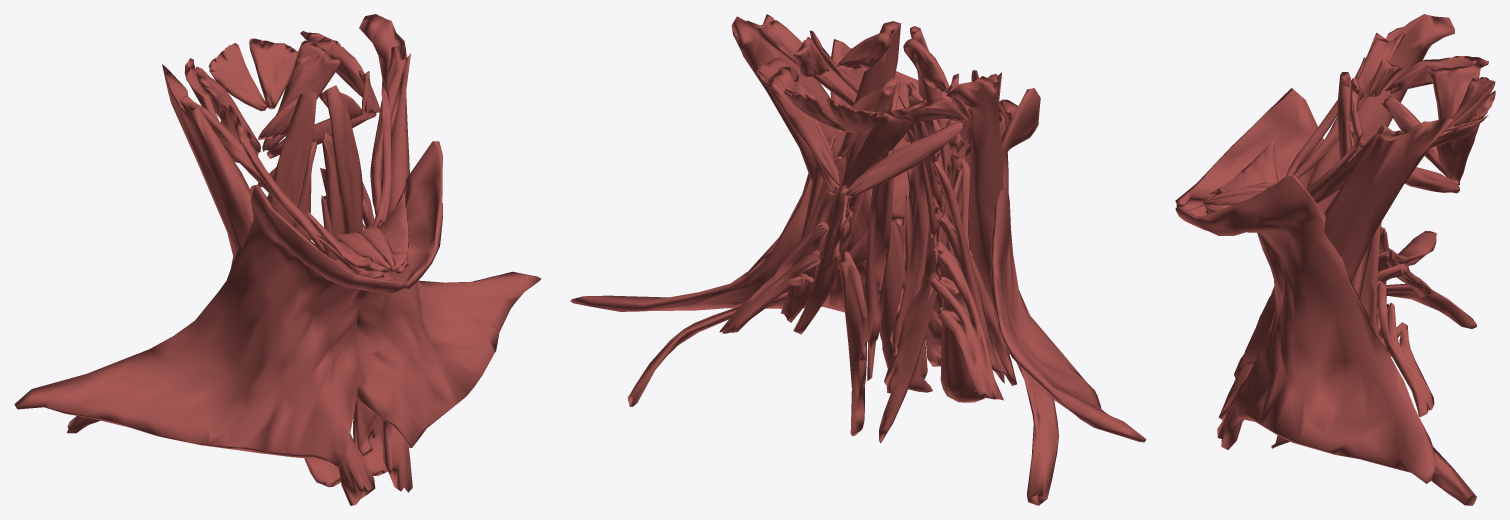
File: neck.glb
The picture shows the model from 3 angles, left to right: view 1: azimuth 30°, elevation 25°; view 2: azimuth 150°, elevation 25°; view 3: azimuth 270°, elevation 25°; orthographic projection. The views are drawn at different scales.
Visible parts, largest first — view 1: FMA45739, FMA45740, FMA13408, FMA13409, FMA46310, FMA46309, FMA32531, FMA32533, FMA32532, FMA46307, FMA45826, FMA46286 (+15 smaller); view 2: FMA45739, FMA45740, FMA13408, FMA13409, FMA46286, FMA13388, FMA46285, FMA13348, FMA46287, FMA46288, FMA13390, FMA13389 (+21 smaller); view 3: FMA45740, FMA13409, FMA45739, FMA13408, FMA13389, FMA46306, FMA32530, FMA13391, FMA32534, FMA46321, FMA32531, FMA13348 (+16 smaller).
Boxes of the visible parts, left/top/right/bottom form: FMA45739: left=14, top=184, right=405, bottom=466; FMA45740: left=356, top=141, right=541, bottom=447; FMA13408: left=162, top=64, right=375, bottom=505; FMA13409: left=359, top=14, right=412, bottom=492; FMA46310: left=325, top=85, right=363, bottom=233; FMA46309: left=267, top=92, right=316, bottom=225; FMA32531: left=262, top=40, right=340, bottom=151; FMA32533: left=249, top=38, right=298, bottom=109; FMA32532: left=208, top=43, right=267, bottom=111; FMA46307: left=370, top=46, right=406, bottom=227; FMA45826: left=233, top=114, right=330, bottom=254; FMA46286: left=320, top=138, right=344, bottom=260; FMA45739: left=950, top=88, right=1146, bottom=442; FMA45740: left=570, top=39, right=964, bottom=312; FMA13408: left=946, top=72, right=1004, bottom=383; FMA13409: left=731, top=14, right=941, bottom=366; FMA46286: left=865, top=81, right=901, bottom=380; FMA13388: left=929, top=250, right=1003, bottom=400; FMA46285: left=884, top=83, right=929, bottom=385; FMA13348: left=961, top=160, right=1058, bottom=505; FMA46287: left=879, top=272, right=939, bottom=442; FMA46288: left=838, top=251, right=868, bottom=436; FMA13390: left=932, top=161, right=1007, bottom=374; FMA13389: left=719, top=222, right=825, bottom=333; FMA45740: left=1175, top=174, right=1436, bottom=483; FMA13409: left=1217, top=118, right=1453, bottom=449; FMA45739: left=1175, top=88, right=1436, bottom=378; FMA13408: left=1219, top=14, right=1454, bottom=420; FMA13389: left=1377, top=280, right=1434, bottom=416; FMA46306: left=1293, top=32, right=1405, bottom=177; FMA32530: left=1428, top=66, right=1480, bottom=119; FMA13391: left=1359, top=222, right=1407, bottom=348; FMA32534: left=1385, top=56, right=1488, bottom=93; FMA46321: left=1206, top=137, right=1278, bottom=199; FMA32531: left=1436, top=120, right=1479, bottom=184; FMA13348: left=1386, top=283, right=1476, bottom=328.
Size of the model in its own units: 0.2733 by 0.1874 by 0.1474.
